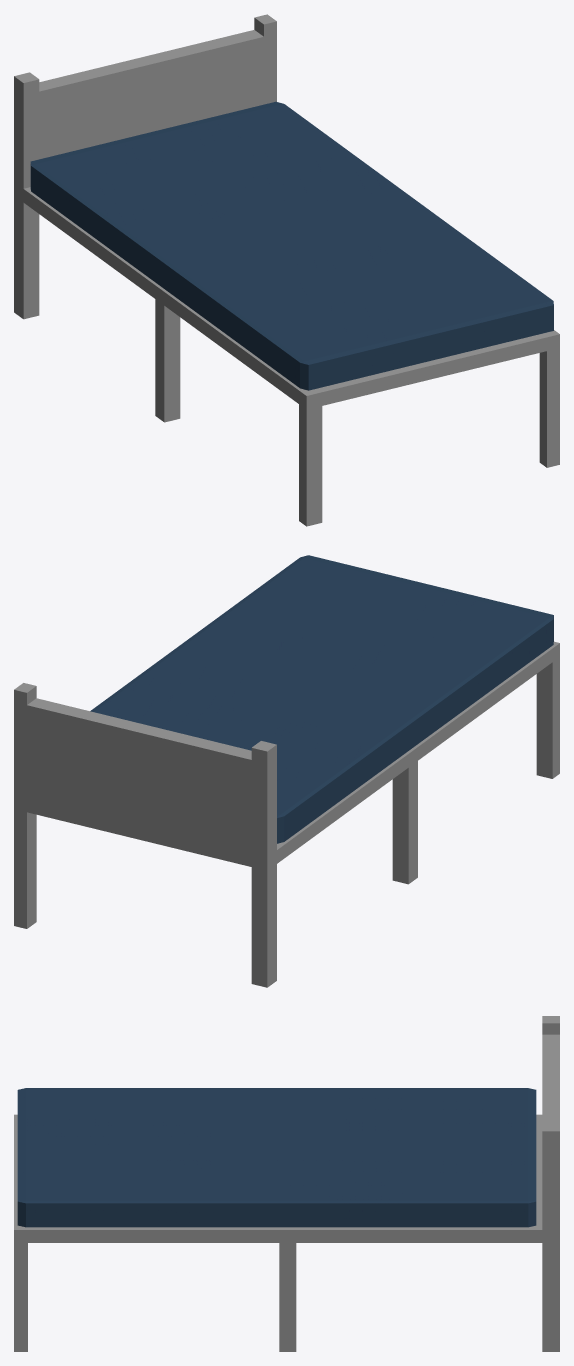
Rendered from bed.glb.
3 renders of one model, top to bottom at view 1: azimuth 30°, elevation 25°; view 2: azimuth 150°, elevation 25°; view 3: azimuth 270°, elevation 25°, orthographic. The views are drawn at different scales.
Parts seen in each view (by area): view 1: Mattress-col, Frame-col; view 2: Mattress-col, Frame-col; view 3: Mattress-col, Frame-col.
Part boxes in pixels (box(x1,y1,x2,y2)): Mattress-col: box(30, 101, 553, 390); Frame-col: box(14, 14, 559, 526); Mattress-col: box(90, 555, 553, 843); Frame-col: box(14, 641, 559, 987); Mattress-col: box(17, 1088, 536, 1227); Frame-col: box(14, 1016, 559, 1351).
Size of the model in its own units: 1 by 0.8908 by 2.
1 material, 1 textured.
